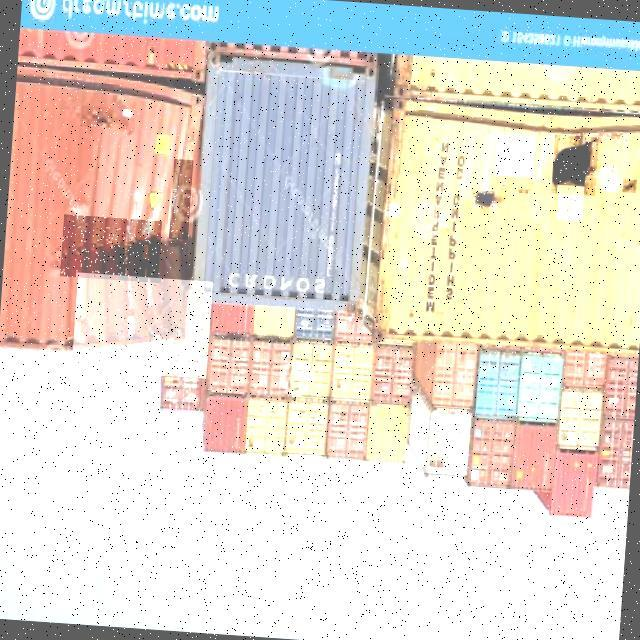Deframe: (72, 275, 210, 368)
Dent: (60, 214, 164, 283)
Hole: (551, 134, 601, 196), (473, 188, 498, 209)
Minor-Dent: (169, 159, 193, 240), (494, 134, 536, 178), (557, 184, 584, 221), (81, 105, 116, 128)
Rust: (588, 129, 628, 144), (601, 166, 618, 192), (571, 131, 586, 147), (622, 179, 637, 193), (531, 160, 541, 181), (517, 186, 528, 193), (501, 182, 509, 190)
